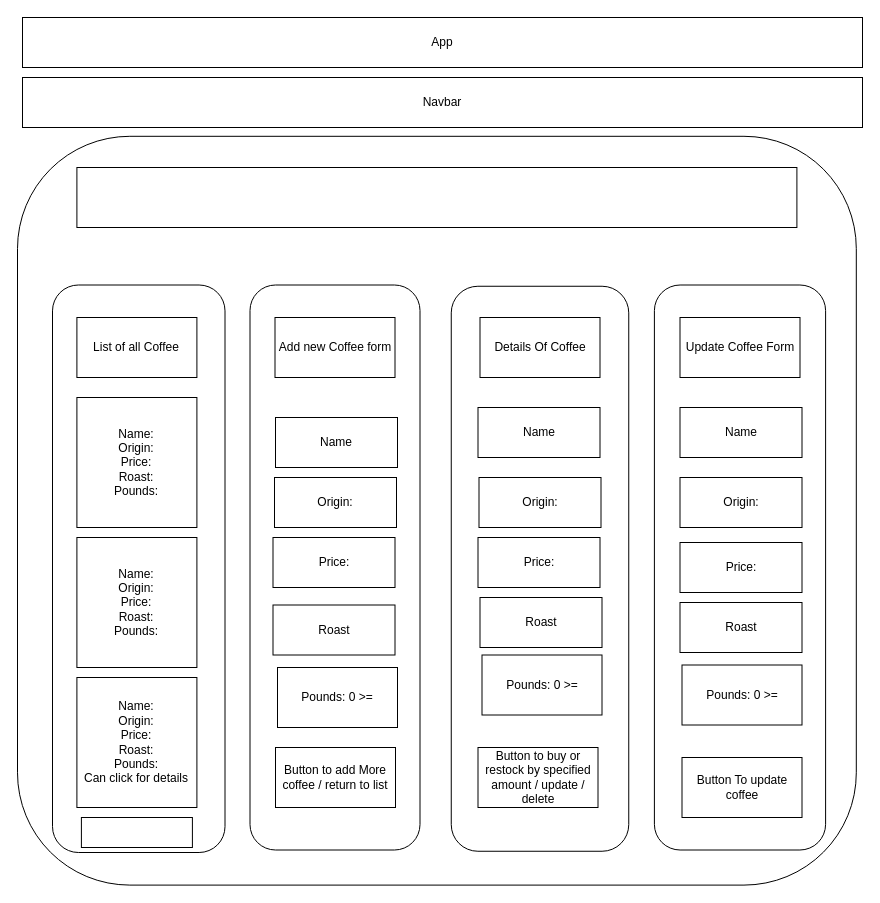
The diagram is 880 pixels wide and 903 high, and some of its shapes have lost their labels. The centre of each missing label's shape, as x and y in pixels:
button to take to add coffee form: pixel 136 832
Coffee Control: pixel 436 197
